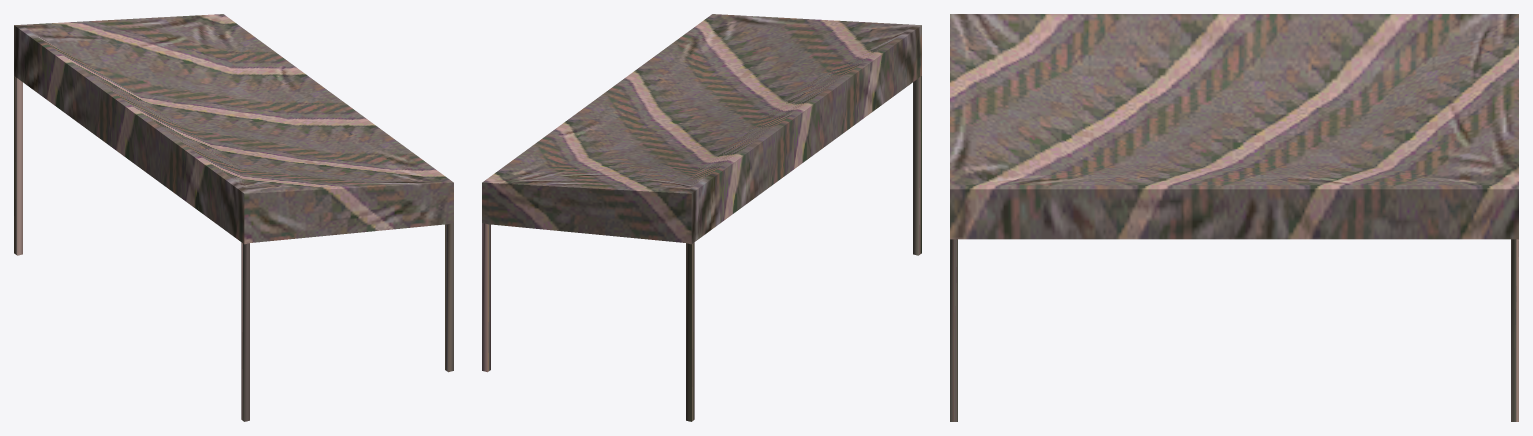
File: Market_Canopy02.glb
3 views of the same model, side by side, from view 1: azimuth 30°, elevation 25°; view 2: azimuth 150°, elevation 25°; view 3: azimuth 270°, elevation 25° (orthographic). The views are drawn at different scales.
Parts seen in each view (by area): view 1: MARKET_CANOPY02; view 2: MARKET_CANOPY02; view 3: MARKET_CANOPY02.
Part boxes in pixels (bbox=[...]): MARKET_CANOPY02: bbox=[14, 14, 453, 421]; MARKET_CANOPY02: bbox=[482, 14, 921, 421]; MARKET_CANOPY02: bbox=[950, 14, 1518, 421].
Size of the model in its own units: 3.73 by 3.89 by 7.11.
Materials: 1 (1 with a texture image).
